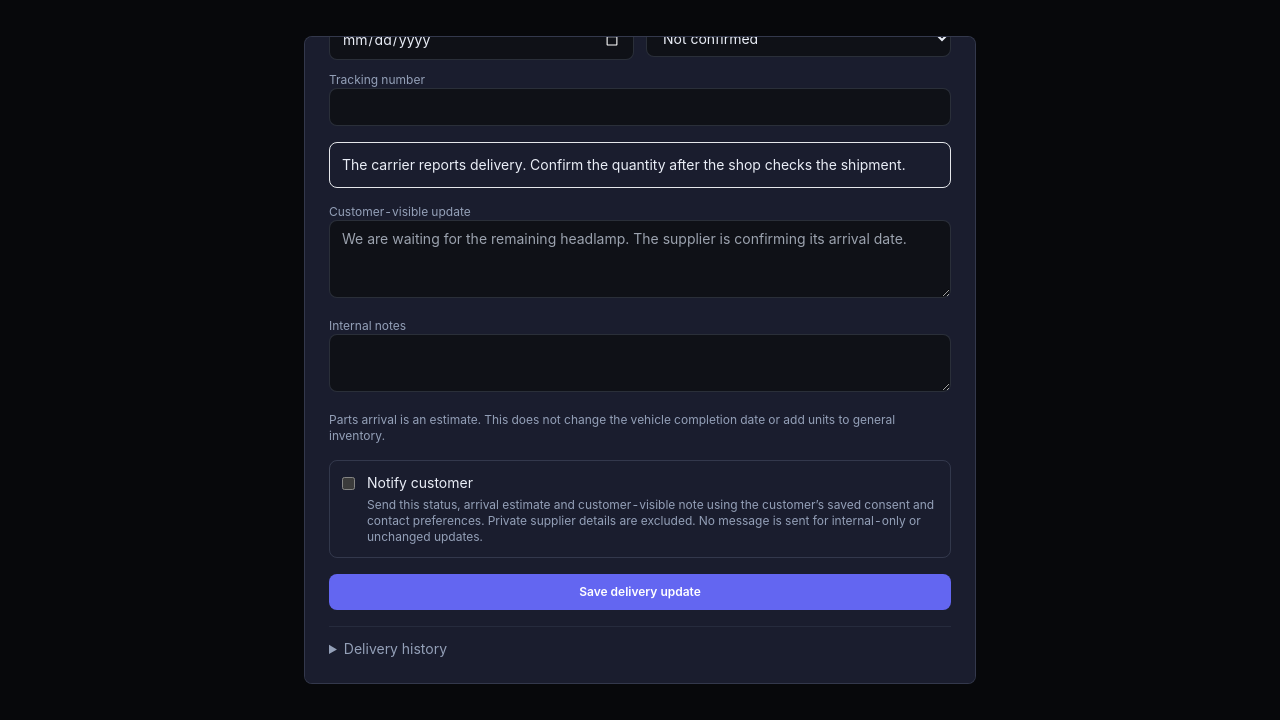
Scenario: saved update survives an unknown notification result without offering a duplicate send
(page scrolled)
Click the checkbox labelled "Notify customer" at (348, 484), box top-left (342, 477), bottom-right (355, 490)
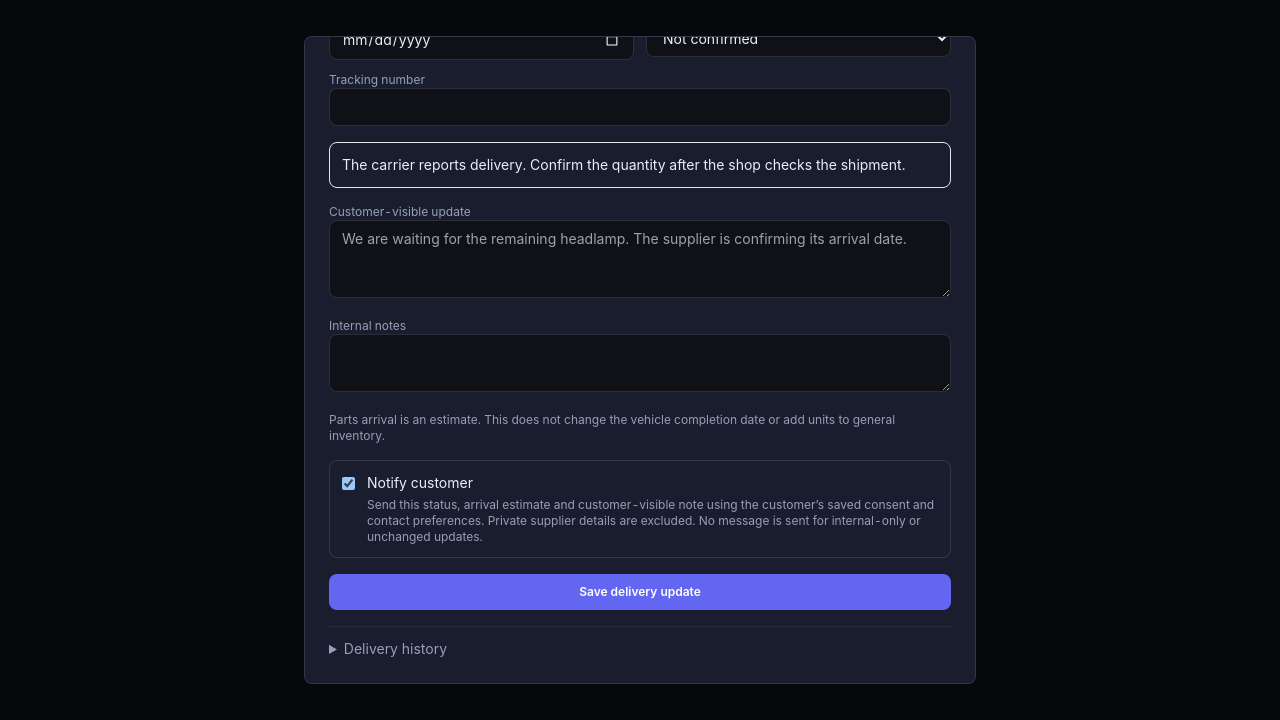
Click the button "Save delivery update" at (640, 592), box top-left (329, 574), bottom-right (951, 610)
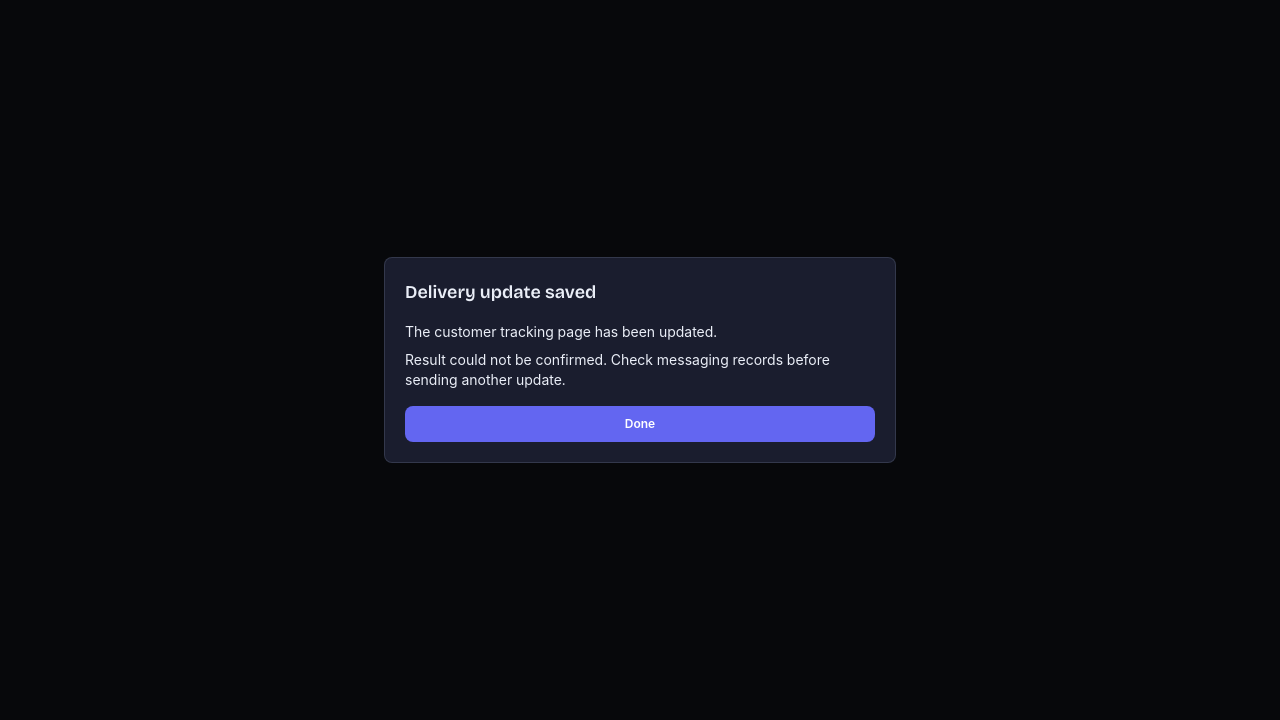
Now the message shows "Check messaging records before sending another update.", box top-left (405, 351), bottom-right (830, 388)
Now the button "Save delivery update" is gone
